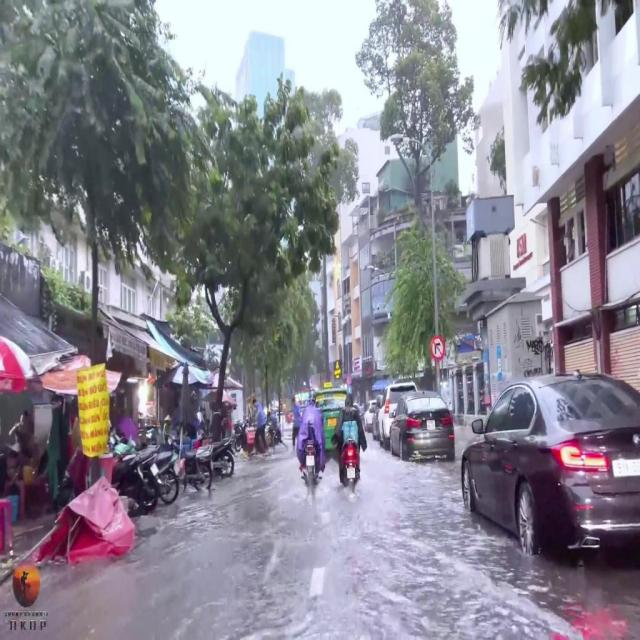cam_re_phai: (430, 336, 446, 364)
